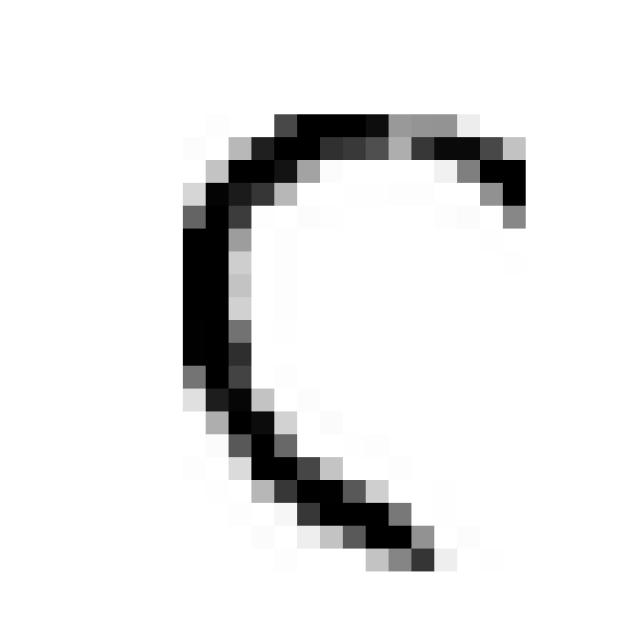2 -two-: (162, 89, 547, 591)
